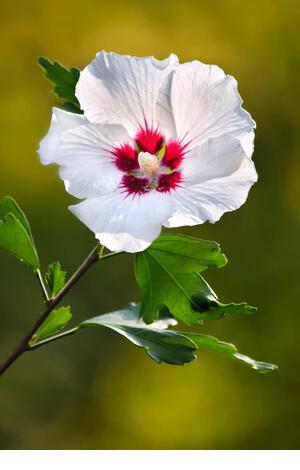Hibiscus: (46, 53, 262, 250)
